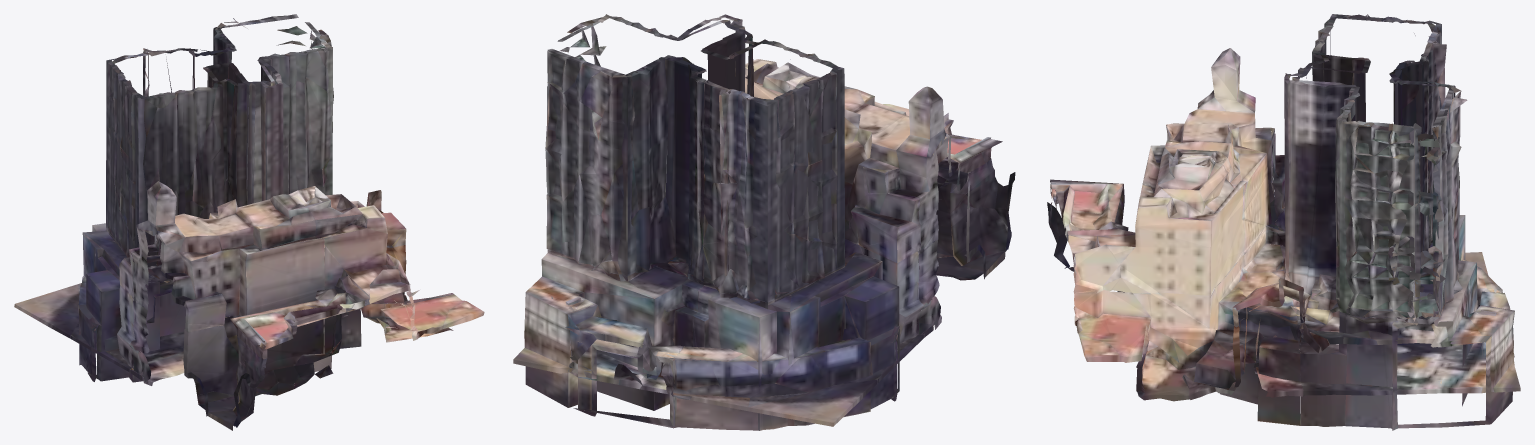
3 renders of one model, left to right at view 1: azimuth 30°, elevation 25°; view 2: azimuth 150°, elevation 25°; view 3: azimuth 270°, elevation 25°, orthographic. The views are drawn at different scales.
Parts seen in each view (by area): view 1: Mesh_0; view 2: Mesh_0; view 3: Mesh_0.
Part boxes in pixels (x1,y1,x2,y2): Mesh_0: (14,14,484,430); Mesh_0: (513,14,1015,430); Mesh_0: (1047,14,1520,430).
Bounding box in the file's own units: 66.55 × 59.99 × 82.62.
2 materials, 2 textured.
